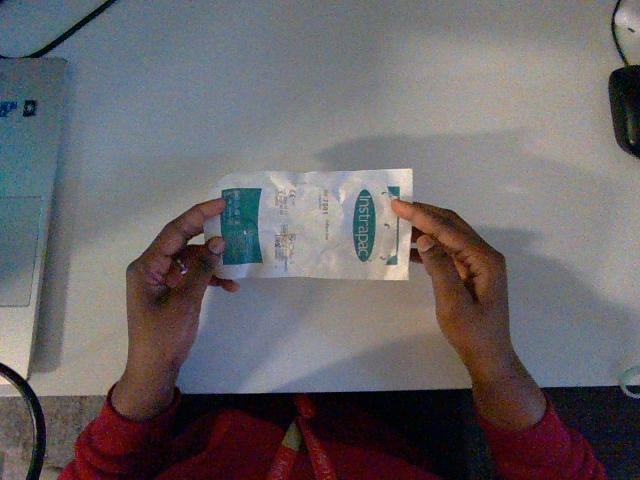gallipot: (204, 169, 412, 279)
